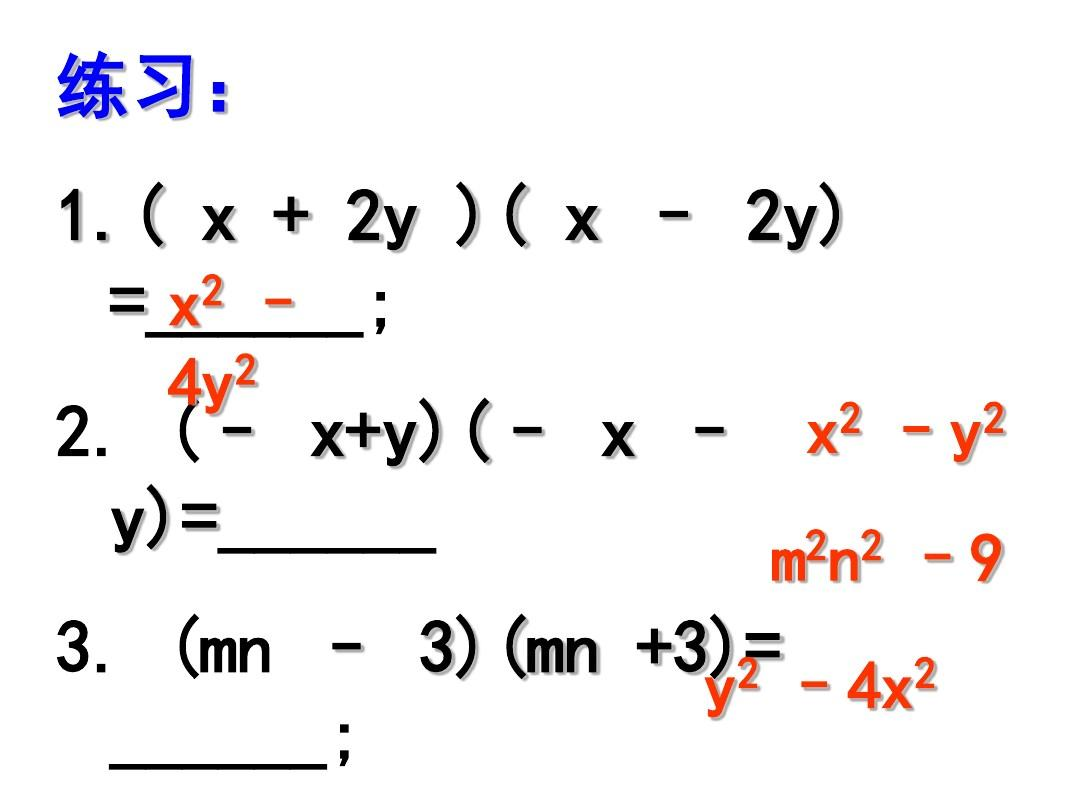division: (131, 323, 381, 347)
square: (835, 398, 868, 440), (802, 523, 831, 564), (911, 654, 940, 695), (859, 525, 888, 561), (981, 398, 1005, 440), (200, 270, 228, 305), (235, 351, 259, 389), (736, 658, 763, 690)
